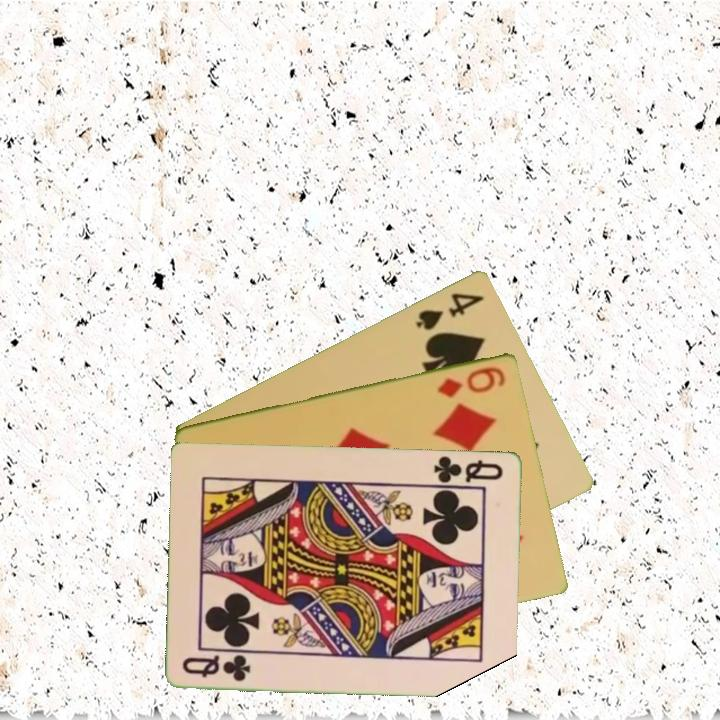4s: (412, 288, 487, 333)
6d: (434, 362, 509, 400)
Qc: (431, 452, 506, 486), (179, 651, 254, 684)
